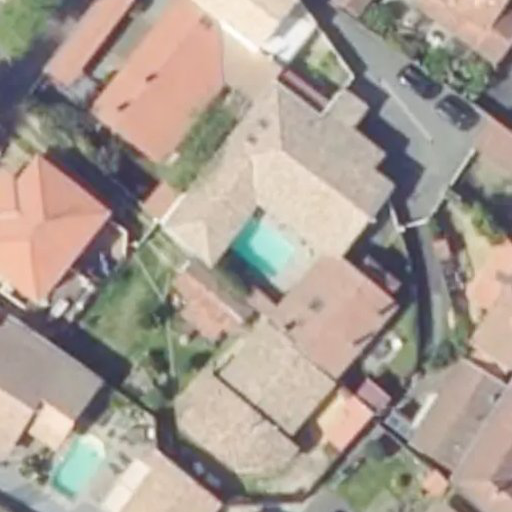pool: (222, 238, 289, 245)
